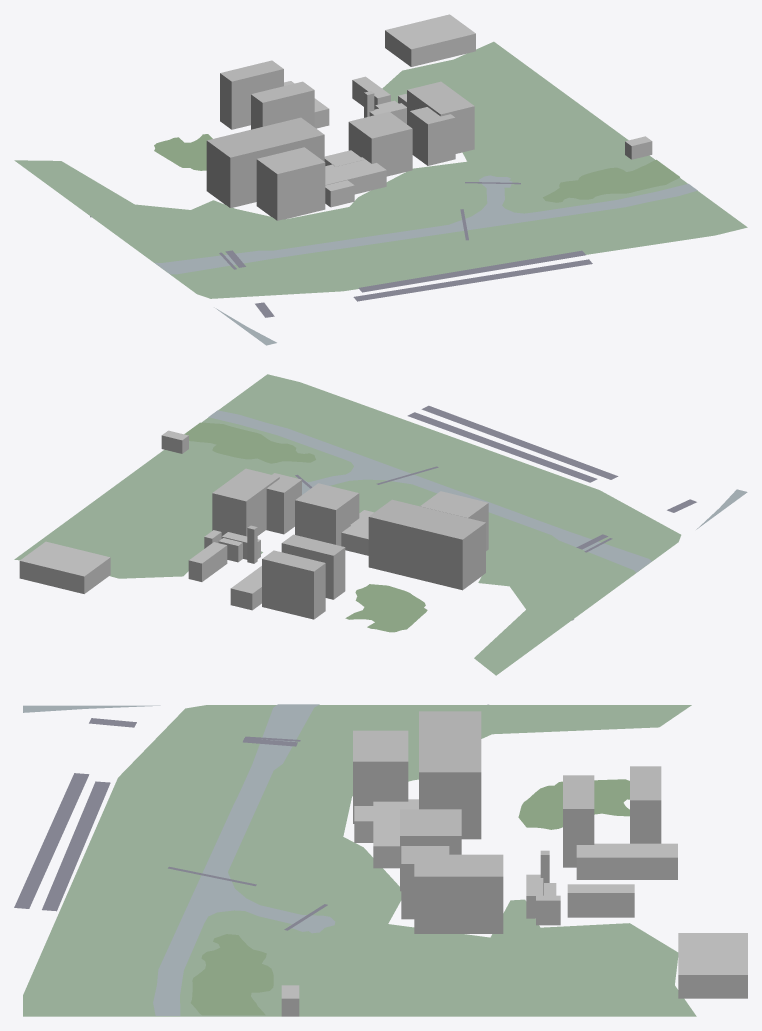
Rendered from 123_80_mid.glb.
3 views of the same model, one above another, from view 1: azimuth 30°, elevation 25°; view 2: azimuth 150°, elevation 25°; view 3: azimuth 270°, elevation 25° (orthographic). The views are drawn at different scales.
Size of the model in its own units: 503 by 50.65 by 498.
